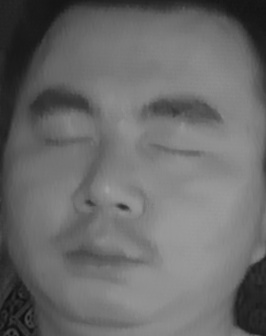blink: (151, 126, 203, 171), (35, 120, 93, 160)
mouth: (58, 222, 148, 284)
